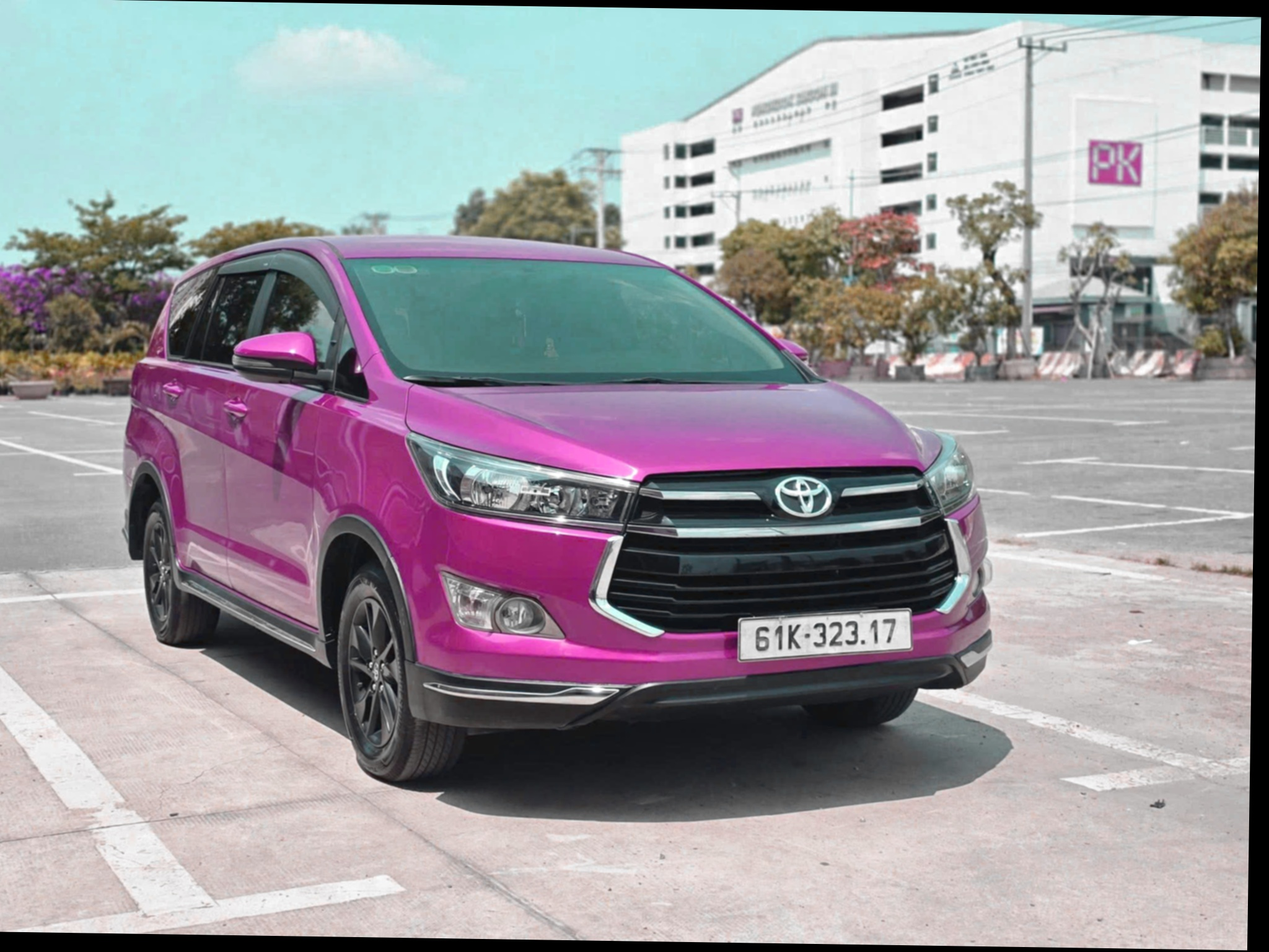Bien-so: (738, 611, 914, 661)
